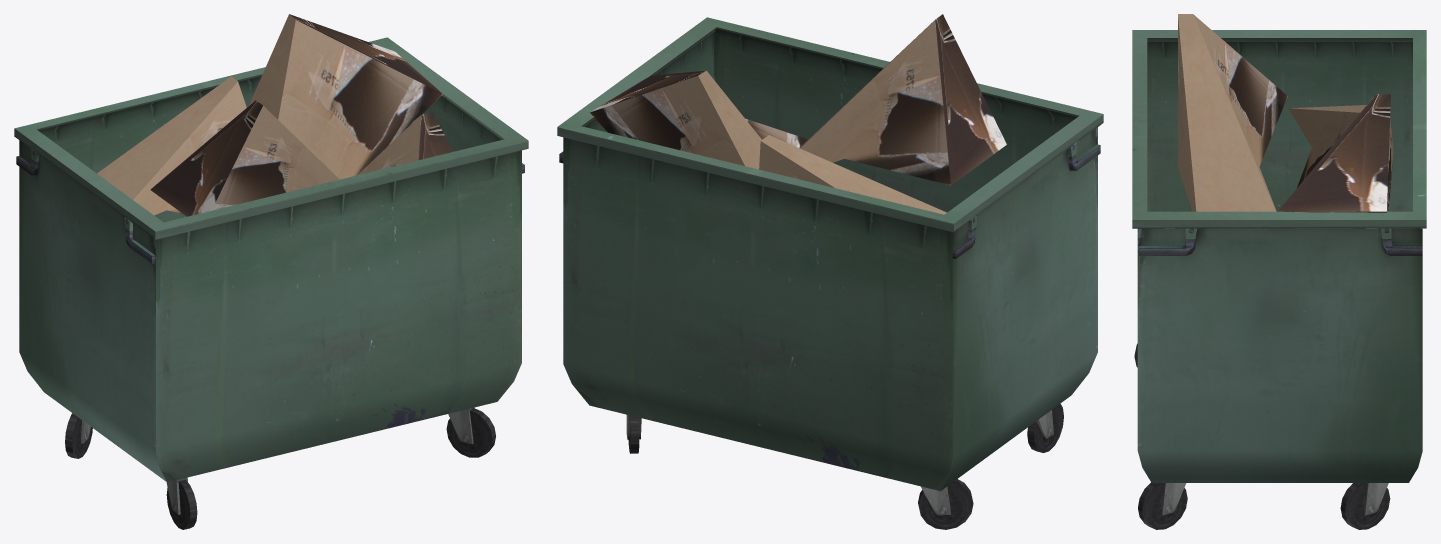
File: trash.FBX
The picture shows the model from 3 angles, left to right: view 1: azimuth 30°, elevation 25°; view 2: azimuth 150°, elevation 25°; view 3: azimuth 270°, elevation 25°; orthographic projection. The views are drawn at different scales.
Visible parts, largest first — view 1: trash, Box001; view 2: trash, Box001; view 3: trash, Box001.
Part boxes in pixels (x1,y1,x2,y2): trash: [14, 37, 528, 529]; Box001: [97, 14, 453, 216]; trash: [557, 17, 1103, 529]; Box001: [589, 14, 1006, 214]; trash: [1132, 30, 1426, 529]; Box001: [1178, 14, 1393, 212].
Bounding box in the file's own units: 3.23 × 3.26 × 2.11.
